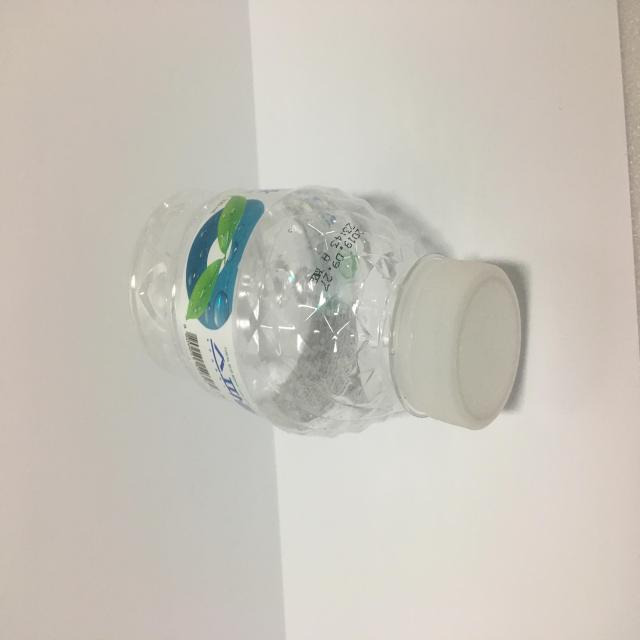bottle: (123, 179, 526, 454)
